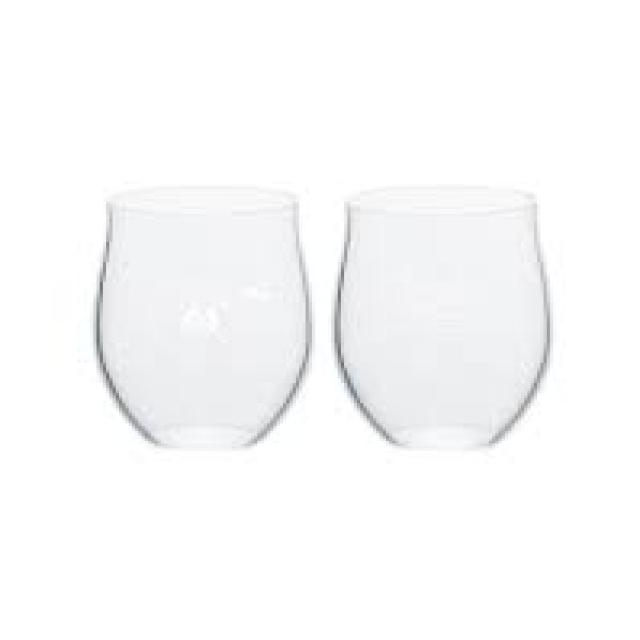glass: (328, 186, 547, 451), (93, 184, 309, 451)
